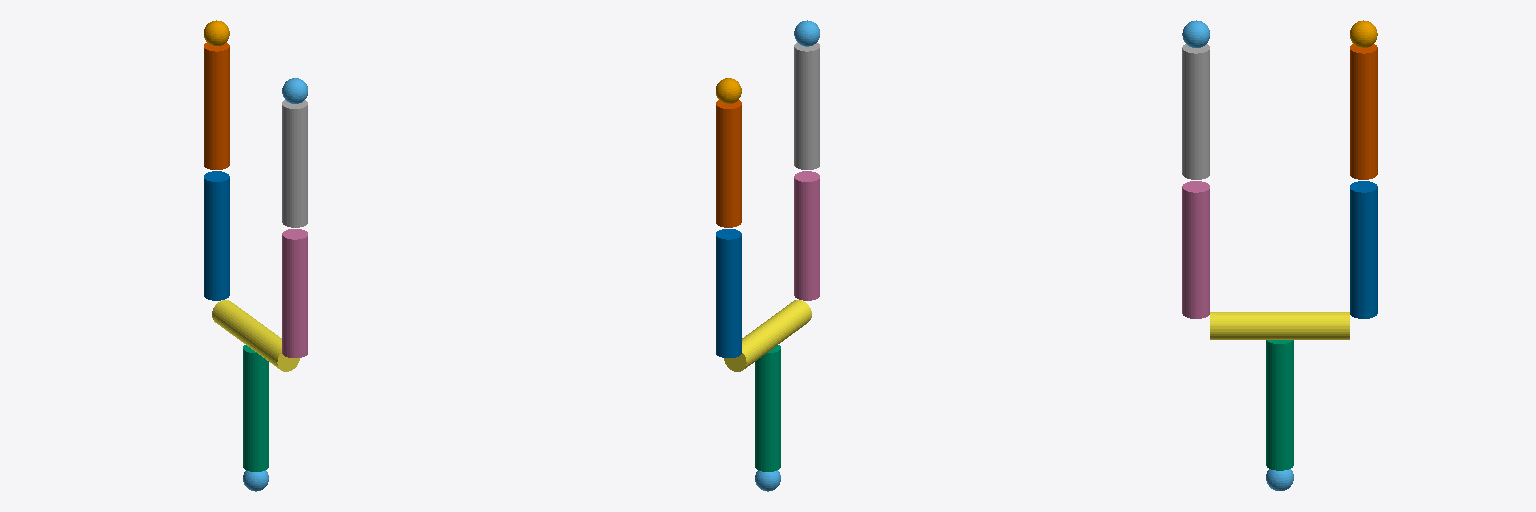
URDF robot description (robot_description):
<?xml version="1.0"?>
<robot name="robot_description">
  <link name="world"/>
  <joint name="robot_to_world" type="fixed">
    <parent link="world"/>
    <child link="link0"/>
    <origin rpy="0.0 0.0 0.0" xyz="0.0 0.0 0.1"/>
  </joint>
  <!-- end for simulation -->
  <link name="link0">
    <visual>
      <geometry>
        <sphere radius="0.1"/>
      </geometry>
    </visual>
    <collision>
      <geometry>
        <sphere radius="0.1"/>
      </geometry>
    </collision>
    <!-- for simulation -->
    <inertial>
      <origin rpy="0 0 0" xyz="0 0 0.05"/>
      <mass value="1.00"/>
      <inertia ixx="0.25083" ixy="0.0" ixz="0.0" iyy="0.25083" iyz="0.0" izz="0.5"/>
    </inertial>
    <!-- end for simulation -->
  </link>
  <link name="link1">
    <visual>
      <origin xyz="0 0 0.6" rpy="0 0 0"/>
      <geometry>
        <cylinder length="1.0" radius="0.1"/>
      </geometry>
    </visual>
    <collision>
      <origin xyz="0 0 0.6" rpy="0 0 0"/>
      <geometry>
        <cylinder length="1.0" radius="0.1"/>
      </geometry>
    </collision>
    <!-- for simulation -->
    <inertial>
      <origin rpy="0 0 0" xyz="0 0 0.5"/>
      <mass value="1.0"/>
      <inertia ixx="0.0858" ixy="0.0" ixz="0.0" iyy="0.0858" iyz="0.0" izz="0.005"/>
    </inertial>
    <!-- end for simulation -->
  </link>
  <link name="link_torso">
    <visual>
      <origin xyz="0 0 0.6" rpy="0 0 0"/>
      <geometry>
        <cylinder length="1.0" radius="0.1"/>
      </geometry>
    </visual>
    <collision>
      <origin xyz="0 0 0.6" rpy="0 0 0"/>
      <geometry>
        <cylinder length="1.0" radius="0.1"/>
      </geometry>
    </collision>
    <!-- for simulation -->
    <inertial>
      <origin rpy="0 0 0" xyz="0 0 0.5"/>
      <mass value="1.0"/>
      <inertia ixx="0.0858" ixy="0.0" ixz="0.0" iyy="0.0858" iyz="0.0" izz="0.005"/>
    </inertial>
    <!-- end for simulation -->
  </link>
  <joint name="joint_torso" type="fixed">
    <origin rpy="1.57 0 0" xyz="0 0.6 1.2"/>
    <parent link="link1"/>
    <child link="link_torso"/>
  </joint>
  <link name="link2">
    <visual>
      <origin xyz="0 0 0.6" rpy="0 0 0"/>
      <geometry>
        <cylinder length="1.0" radius="0.1"/>
      </geometry>
    </visual>
    <collision>
      <origin xyz="0 0 0.6" rpy="0 0 0"/>
      <geometry>
        <cylinder length="1.0" radius="0.1"/>
      </geometry>
    </collision>
    <!-- for simulation -->
    <inertial>
      <origin rpy="0 0 0" xyz="0 0 0.5"/>
      <mass value="1.0"/>
      <inertia ixx="0.0858" ixy="0.0" ixz="0.0" iyy="0.0858" iyz="0.0" izz="0.005"/>
    </inertial>
    <!-- end for simulation -->
  </link>
  <link name="link3">
    <visual>
      <origin xyz="0 0 0.6" rpy="0 0 0"/>
      <geometry>
        <cylinder length="1.0" radius="0.1"/>
      </geometry>
    </visual>
    <collision>
      <origin xyz="0 0 0.6" rpy="0 0 0"/>
      <geometry>
        <cylinder length="1.0" radius="0.1"/>
      </geometry>
    </collision>
    <!-- for simulation -->
    <inertial>
      <origin rpy="0 0 0" xyz="0 0 0.5"/>
      <mass value="1.0"/>
      <inertia ixx="0.0858" ixy="0.0" ixz="0.0" iyy="0.0858" iyz="0.0" izz="0.005"/>
    </inertial>
    <!-- end for simulation -->
  </link>
  <link name="link4">
    <visual>
      <origin xyz="0 0 0.6" rpy="0 0 0"/>
      <geometry>
        <cylinder length="1.0" radius="0.1"/>
      </geometry>
    </visual>
    <collision>
      <origin xyz="0 0 0.6" rpy="0 0 0"/>
      <geometry>
        <cylinder length="1.0" radius="0.1"/>
      </geometry>
    </collision>
    <!-- for simulation -->
    <inertial>
      <origin rpy="0 0 0" xyz="0 0 0.5"/>
      <mass value="1.0"/>
      <inertia ixx="0.0858" ixy="0.0" ixz="0.0" iyy="0.0858" iyz="0.0" izz="0.005"/>
    </inertial>
    <!-- end for simulation -->
  </link>
  <link name="link5">
    <visual>
      <origin xyz="0 0 0.6" rpy="0 0 0"/>
      <geometry>
        <cylinder length="1.0" radius="0.1"/>
      </geometry>
    </visual>
    <collision>
      <origin xyz="0 0 0.6" rpy="0 0 0"/>
      <geometry>
        <cylinder length="1.0" radius="0.1"/>
      </geometry>
    </collision>
    <!-- for simulation -->
    <inertial>
      <origin rpy="0 0 0" xyz="0 0 0.5"/>
      <mass value="1.0"/>
      <inertia ixx="0.0858" ixy="0.0" ixz="0.0" iyy="0.0858" iyz="0.0" izz="0.005"/>
    </inertial>
    <!-- end for simulation -->
  </link>
  <joint name="joint1" type="revolute">
    <safety_controller k_position="100.0" k_velocity="40.0" soft_lower_limit="-2.8973" soft_upper_limit="2.8973"/>
    <origin rpy="0 0 0" xyz="0 0 0.0"/>
    <parent link="link0"/>
    <child link="link1"/>
    <axis xyz="1 0 0"/>
    <limit effort="87" lower="-2.8973" upper="2.8973" velocity="2.1750"/>
    <!-- for simulation -->
    <dynamics damping="0.0" friction="0.0"/>
    <!-- end for simulation -->
  </joint>
  <joint name="joint2" type="revolute">
    <safety_controller k_position="100.0" k_velocity="40.0" soft_lower_limit="-2.8973" soft_upper_limit="2.8973"/>
    <origin rpy="0 0 0" xyz="0 0.6 1.2"/>
    <parent link="link1"/>
    <child link="link2"/>
    <axis xyz="0 1 0"/>
    <limit effort="87" lower="-2.8973" upper="2.8973" velocity="2.1750"/>
    <!-- for simulation -->
    <dynamics damping="0.0" friction="0.0"/>
    <!-- end for simulation -->
  </joint>
  <joint name="joint3" type="revolute">
    <safety_controller k_position="100.0" k_velocity="40.0" soft_lower_limit="-2.8973" soft_upper_limit="2.8973"/>
    <origin rpy="0 0 0" xyz="0 0 1.1"/>
    <parent link="link2"/>
    <child link="link3"/>
    <axis xyz="1 0 0"/>
    <limit effort="87" lower="-2.8973" upper="2.8973" velocity="2.1750"/>
    <!-- for simulation -->
    <dynamics damping="0.0" friction="0.0"/>
    <!-- end for simulation -->
  </joint>
  <link name="ee1_link">
    <visual>
      <origin xyz="0 0 0.005" rpy="0 0 0"/>
      <geometry>
        <sphere radius="0.1"/>
      </geometry>
    </visual>
    <collision>
      <geometry>
        <sphere radius="0.1"/>
      </geometry>
    </collision>
    <!-- for simulation -->
    <inertial>
      <origin rpy="0 0 0" xyz="0 0 0.005"/>
      <mass value="0.0001"/>
      <inertia ixx="0.00005" ixy="0.0" ixz="0.0" iyy="0.00005" iyz="0.0" izz="0.00005"/>
    </inertial>
    <!-- end for simulation -->
  </link>
  <joint name="joint4" type="fixed">
    <origin rpy="0 0 0" xyz="0 0 1.2"/>
    <parent link="link3"/>
    <child link="ee1_link"/>
    <axis xyz="0 0 1"/>
  </joint>
  <!-- end for simulation -->
  <joint name="joint5" type="revolute">
    <safety_controller k_position="100.0" k_velocity="40.0" soft_lower_limit="-2.8973" soft_upper_limit="2.8973"/>
    <origin rpy="0 0 0" xyz="0 -0.6 1.2"/>
    <parent link="link1"/>
    <child link="link4"/>
    <axis xyz="0 1 0"/>
    <limit effort="87" lower="-2.8973" upper="2.8973" velocity="2.1750"/>
    <!-- for simulation -->
    <dynamics damping="0.0" friction="0.0"/>
    <!-- end for simulation -->
  </joint>
  <joint name="joint6" type="revolute">
    <safety_controller k_position="100.0" k_velocity="40.0" soft_lower_limit="-2.8973" soft_upper_limit="2.8973"/>
    <origin rpy="0 0 0" xyz="0 0 1.1"/>
    <parent link="link4"/>
    <child link="link5"/>
    <axis xyz="1 0 0"/>
    <limit effort="87" lower="-2.8973" upper="2.8973" velocity="2.1750"/>
    <!-- for simulation -->
    <dynamics damping="0.0" friction="0.0"/>
    <!-- end for simulation -->
  </joint>
  <link name="ee2_link">
    <visual>
      <origin xyz="0 0 0.005" rpy="0 0 0"/>
      <geometry>
        <sphere radius="0.1"/>
      </geometry>
    </visual>
    <collision>
      <geometry>
        <sphere radius="0.1"/>
      </geometry>
    </collision>
    <!-- for simulation -->
    <inertial>
      <origin rpy="0 0 0" xyz="0 0 0.005"/>
      <mass value="0.0001"/>
      <inertia ixx="0.00005" ixy="0.0" ixz="0.0" iyy="0.00005" iyz="0.0" izz="0.00005"/>
    </inertial>
    <!-- end for simulation -->
  </link>
  <joint name="joint7" type="fixed">
    <origin rpy="0 0 0" xyz="0 0 1.2"/>
    <parent link="link5"/>
    <child link="ee2_link"/>
    <axis xyz="0 0 1"/>
  </joint>
  <!-- end for simulation -->
</robot>

--- What the picture shows (computed from the rendered views, not written in the file) ---
The picture shows the robot from 3 angles, left to right: view 1: azimuth 30°, elevation 25°; view 2: azimuth 150°, elevation 25°; view 3: azimuth 270°, elevation 25°; orthographic projection.
Robot: robot_description — 10 links, 9 joints (5 revolute, 4 fixed); root link world; default pose: every joint at zero.
Visible links, largest first — view 1: link2, link4, link5, link3, link1, link_torso, ee2_link, ee1_link; view 2: link4, link2, link3, link5, link1, link_torso, ee1_link, ee2_link; view 3: link_torso, link2, link4, link3, link5, link1, ee1_link, ee2_link.
Link boxes in pixels (x1,y1,x2,y2): link2: [204, 171, 229, 300]; link4: [282, 229, 307, 357]; link5: [282, 100, 307, 227]; link3: [204, 42, 229, 169]; link1: [243, 345, 268, 471]; link_torso: [212, 300, 299, 371]; ee2_link: [282, 78, 307, 103]; ee1_link: [204, 20, 229, 46]; link4: [794, 171, 819, 300]; link2: [716, 229, 741, 357]; link3: [716, 100, 741, 227]; link5: [794, 42, 819, 169]; link1: [755, 345, 780, 471]; link_torso: [724, 300, 811, 371]; ee1_link: [716, 78, 741, 103]; ee2_link: [794, 20, 819, 46]; link_torso: [1210, 312, 1349, 339]; link2: [1350, 181, 1377, 318]; link4: [1182, 181, 1209, 318]; link3: [1350, 44, 1377, 179]; link5: [1182, 44, 1209, 179]; link1: [1266, 340, 1293, 470]; ee1_link: [1350, 20, 1377, 47]; ee2_link: [1182, 20, 1209, 47].
Size in the robot's own frame: 0.2 by 1.4 by 3.71 metres.
Geometry: primitives only (box / cylinder / sphere), no mesh files.